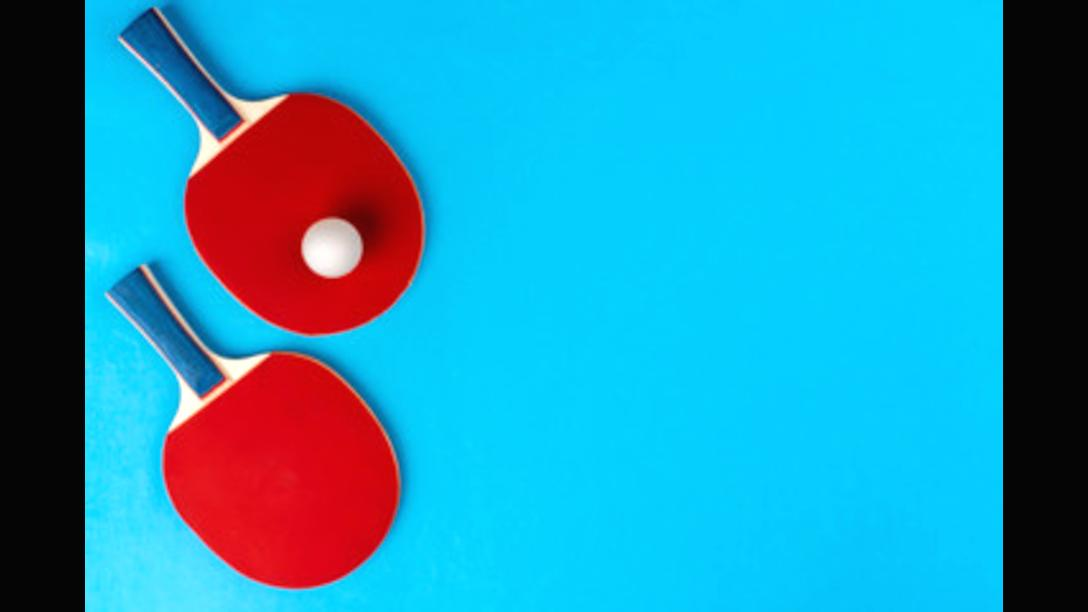Table-Tennis-Ball: (303, 220, 362, 278)
